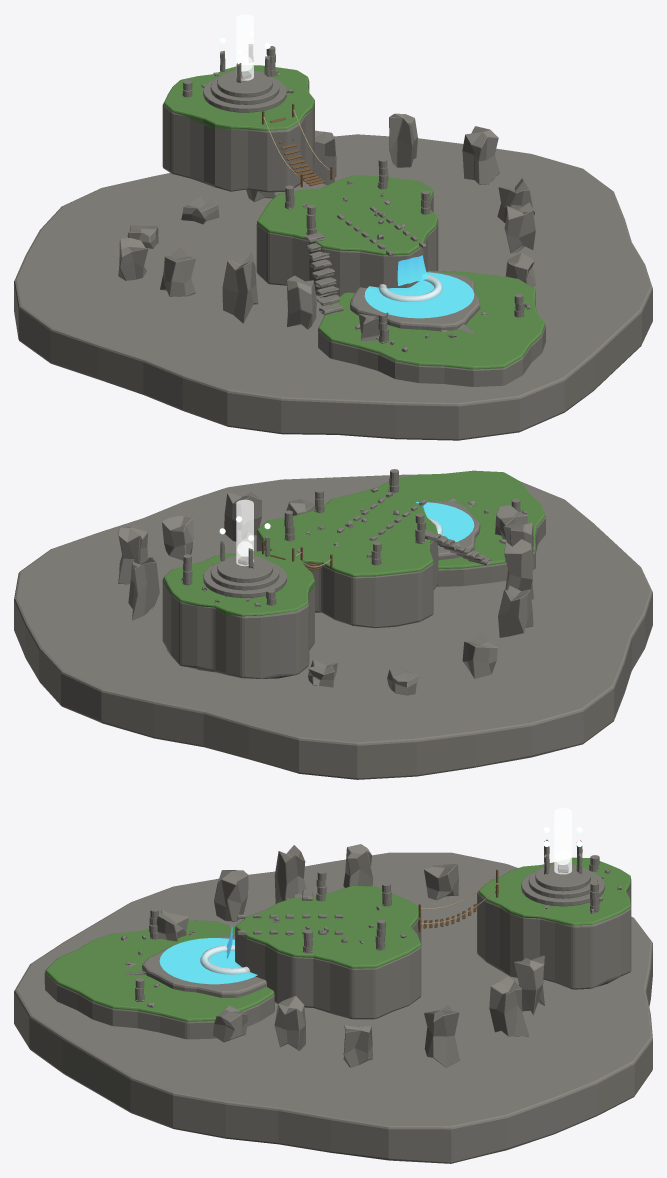
Rendered from concept_arena.glb.
3 renders of one model, top to bottom at view 1: azimuth 30°, elevation 25°; view 2: azimuth 150°, elevation 25°; view 3: azimuth 270°, elevation 25°, orthographic.
Visible parts, largest first — view 1: Arena_Stone, Arena_Grass, Water_Pond, Shrine_Shaft, Arena_Wood, Water_Fall, Foam_Impact; view 2: Arena_Stone, Arena_Grass, Water_Pond, Shrine_Shaft; view 3: Arena_Stone, Arena_Grass, Water_Pond, Shrine_Shaft, Foam_Impact.
Part boxes in pixels (x1=…): Arena_Stone: x1=14, y1=44, x2=652, y2=440; Arena_Grass: x1=163, y1=65, x2=545, y2=369; Water_Pond: x1=364, y1=272, x2=474, y2=318; Shrine_Shaft: x1=236, y1=14, x2=253, y2=80; Arena_Wood: x1=262, y1=103, x2=332, y2=187; Water_Fall: x1=397, y1=255, x2=428, y2=285; Foam_Impact: x1=378, y1=274, x2=442, y2=302; Arena_Stone: x1=14, y1=469, x2=652, y2=779; Arena_Grass: x1=163, y1=470, x2=545, y2=616; Water_Pond: x1=415, y1=502, x2=474, y2=546; Shrine_Shaft: x1=236, y1=499, x2=253, y2=566; Arena_Stone: x1=14, y1=839, x2=652, y2=1163; Arena_Grass: x1=45, y1=857, x2=630, y2=1021; Water_Pond: x1=159, y1=938, x2=257, y2=984; Shrine_Shaft: x1=554, y1=808, x2=571, y2=874; Foam_Impact: x1=200, y1=945, x2=250, y2=974.
Bounding box in the file's own units: 70.13 × 25.57 × 68.72.
